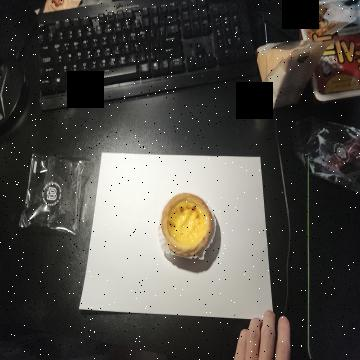EggTart: (159, 192, 214, 257)
